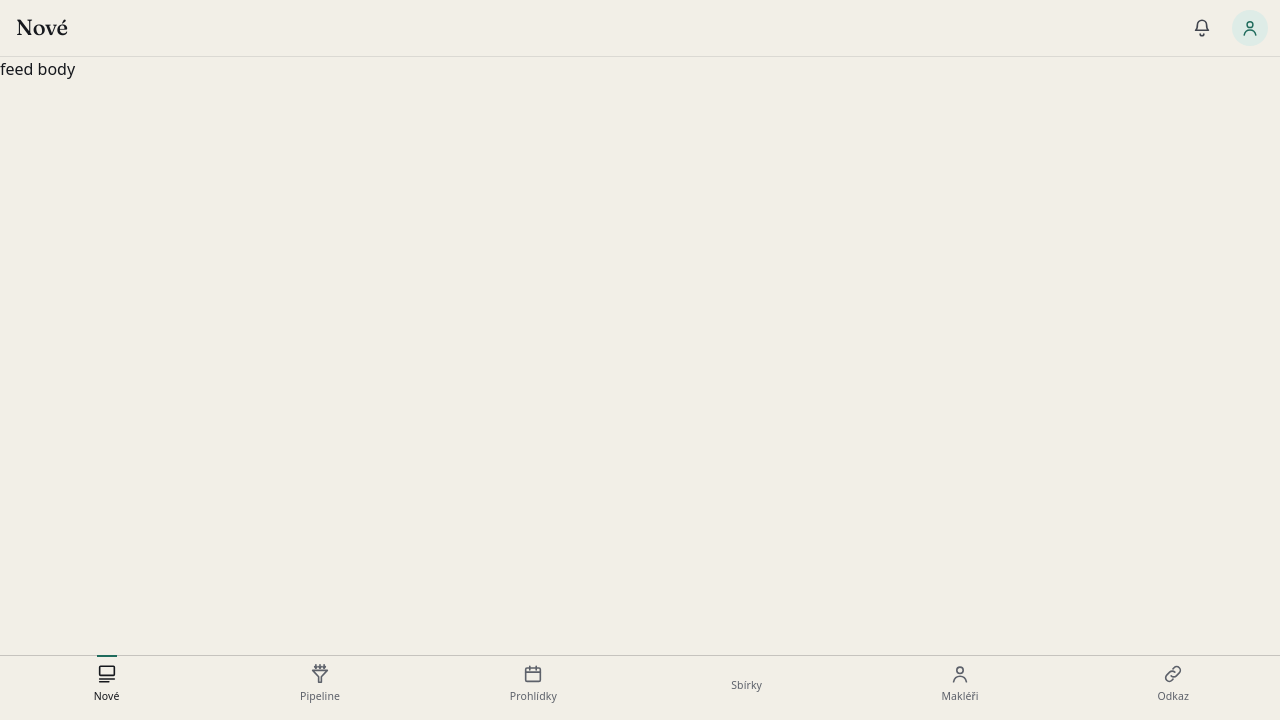
phone frame › gives an admin a Health row that closes the sheet and opens Health
Click the button named "Účet": (1250, 28) top-left (1232, 10), bottom-right (1268, 46)
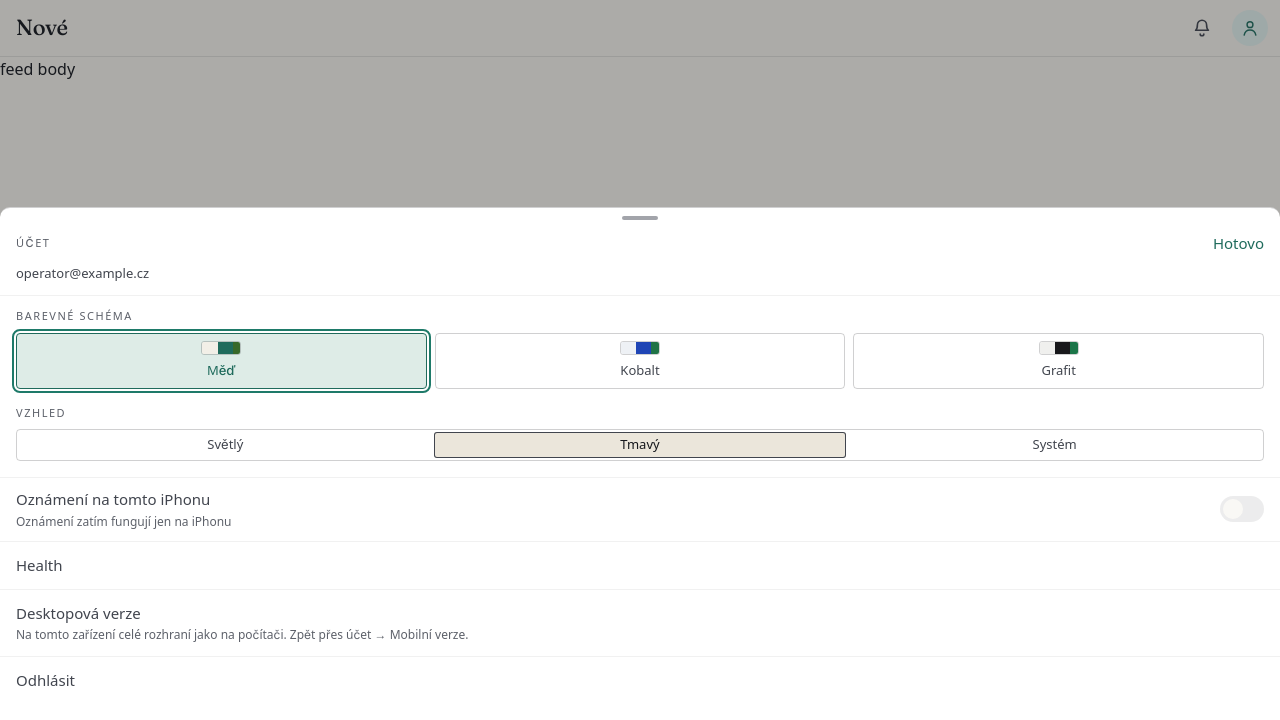
Click the link "Health": (39, 565) top-left (0, 542), bottom-right (1279, 590)
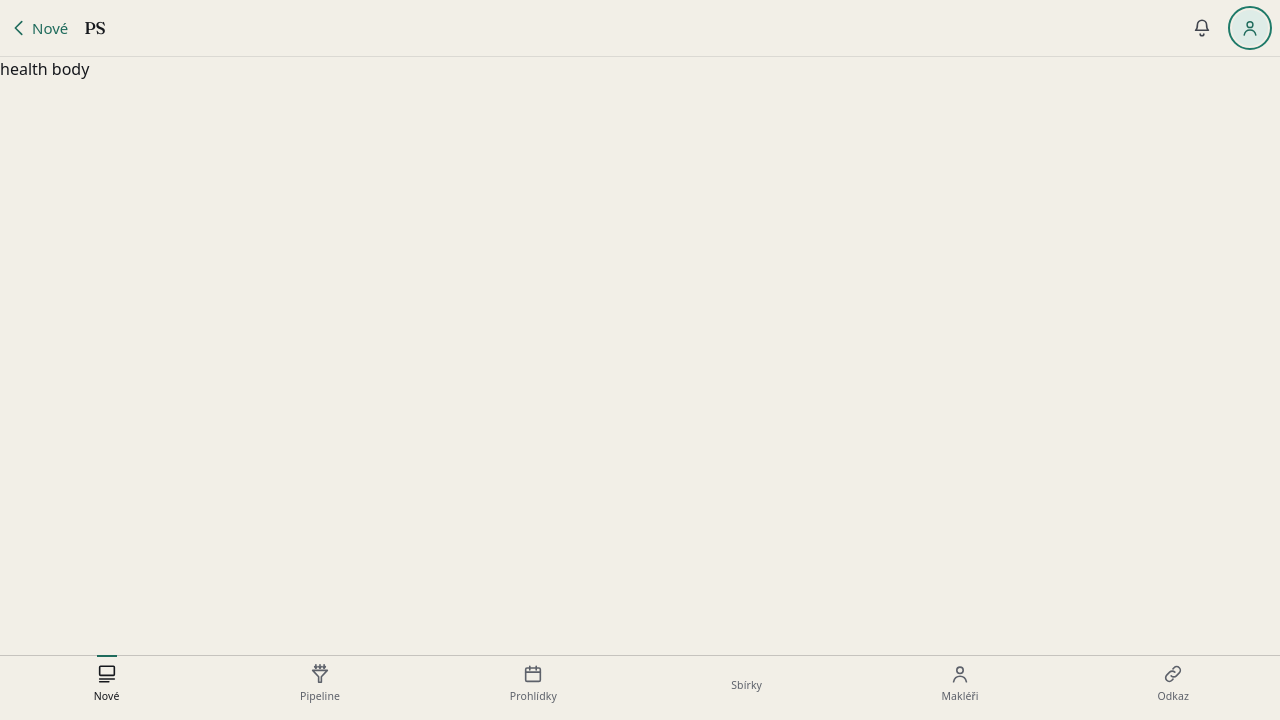
Check: the text "health body" is shown, box top-left (0, 58), bottom-right (89, 80)
Check: the text "Účet" is gone
